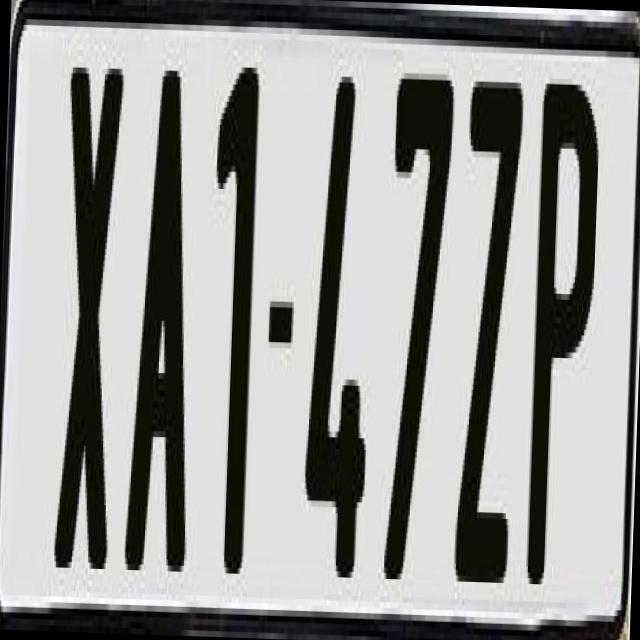1: (202, 54, 268, 580)
4: (298, 69, 377, 595)
7: (376, 72, 460, 598)
A: (124, 52, 210, 560)
P: (522, 66, 601, 574)
X: (54, 49, 126, 552)
Z: (453, 63, 534, 583)
